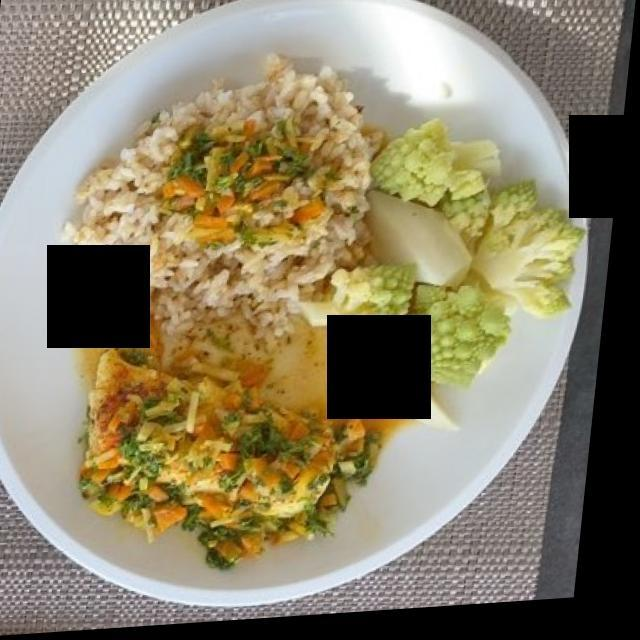fish: (70, 368, 414, 550)
mixed-vegetables: (101, 145, 388, 547)
rice: (66, 85, 391, 325)
romanesco: (308, 133, 582, 424)
sauce: (73, 270, 415, 527)
